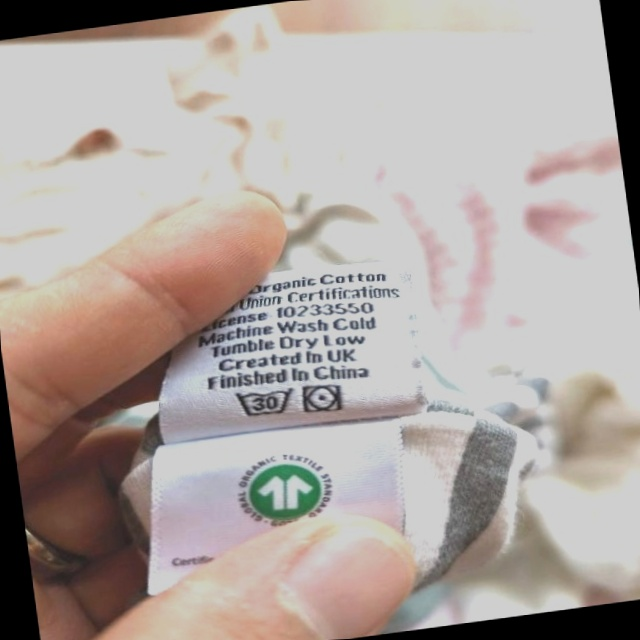30C: (229, 381, 299, 424)
tumble_dry_low: (298, 378, 347, 419)
